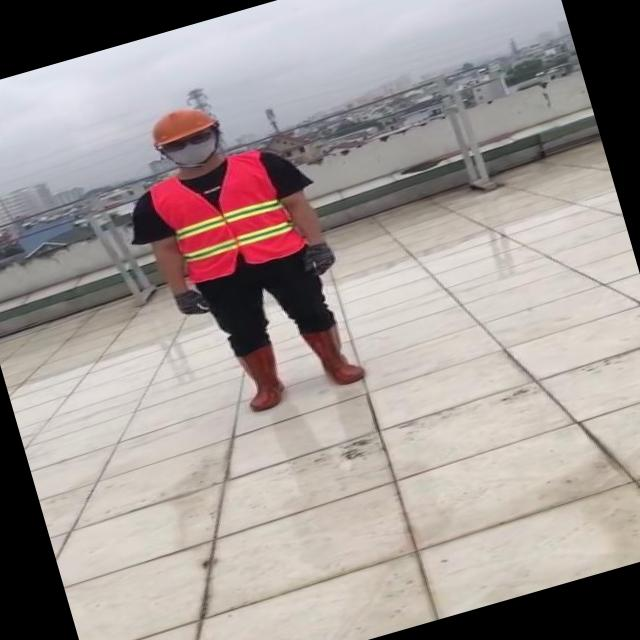hard_hat: (140, 98, 221, 150)
safety_vest: (143, 143, 306, 288)
vehicle: (99, 71, 389, 436)
work_boots: (298, 319, 367, 394), (229, 342, 297, 414)
